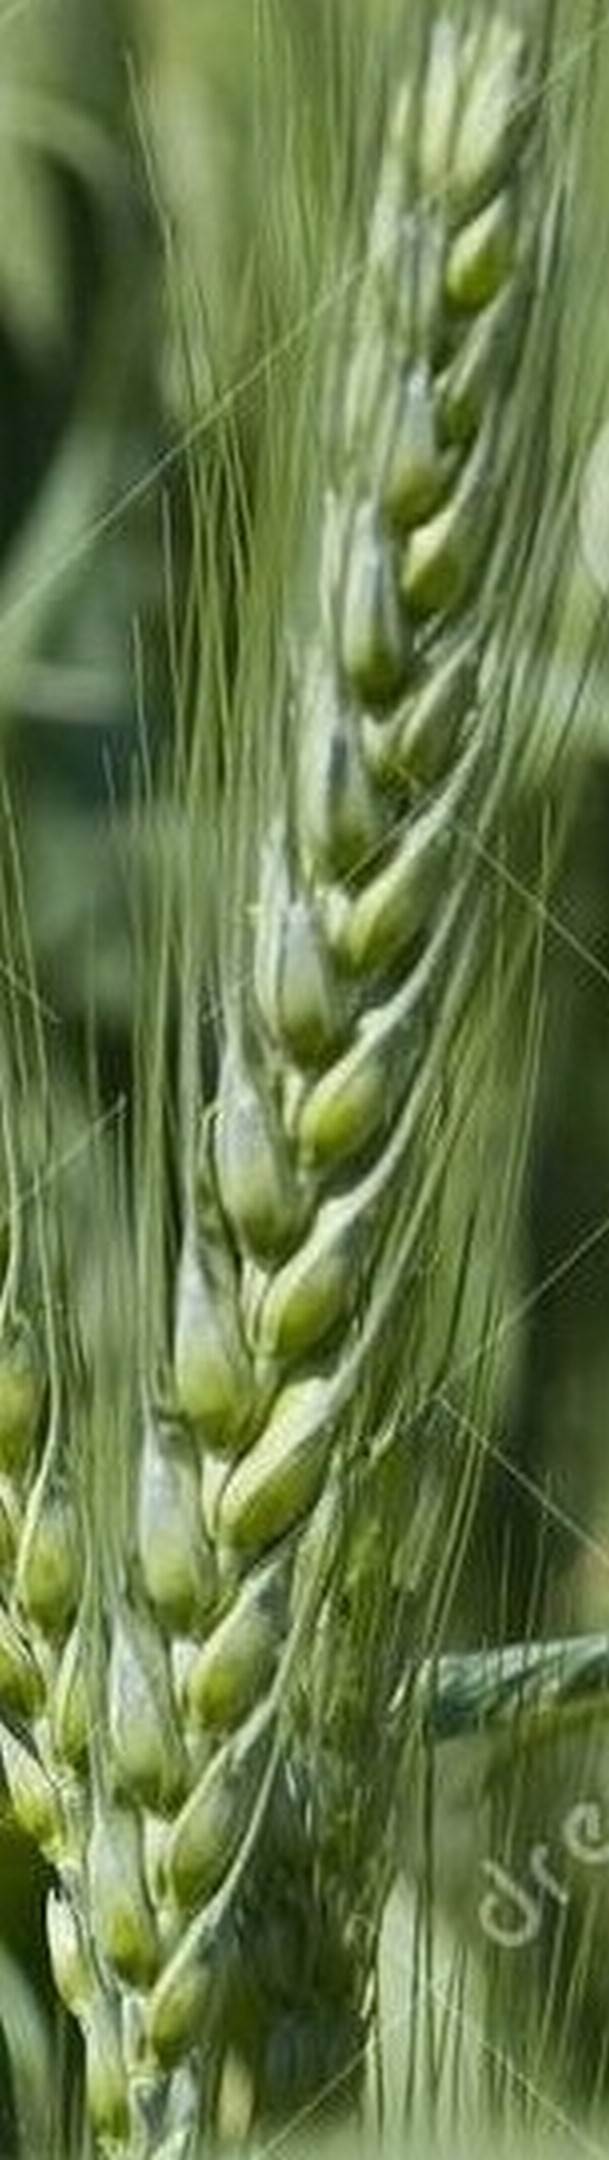Healthy Wheat: (87, 47, 577, 2024)
